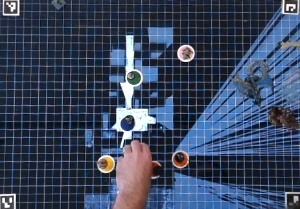blue: (119, 113, 136, 131)
green: (125, 68, 142, 85)
orange: (170, 148, 195, 168)
pink: (176, 42, 193, 63)
red: (145, 160, 164, 180)
yellow: (94, 151, 117, 173)
